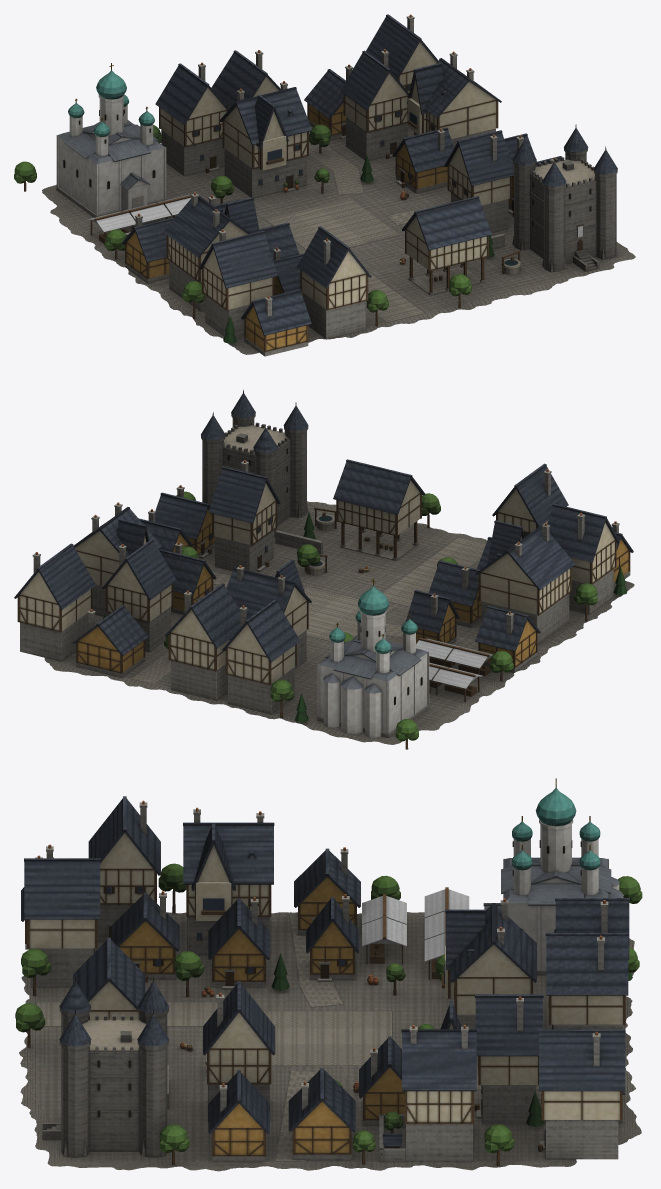
File: kingdoms-town-medium-b-easteurope.glb
3 renders of one model, top to bottom at view 1: azimuth 30°, elevation 25°; view 2: azimuth 150°, elevation 25°; view 3: azimuth 270°, elevation 25°, orthographic. The views are drawn at different scales.
Parts seen in each view (by area): view 1: LOD0; view 2: LOD0; view 3: LOD0.
Part boxes in pixels (x1,y1,x2,y2): LOD0: (14,14,635,356); LOD0: (14,389,634,749); LOD0: (15,778,642,1171).
Size of what is drawn, in the model's own units: 6.05 by 1.88 by 6.09.
3 materials, 3 textured.
